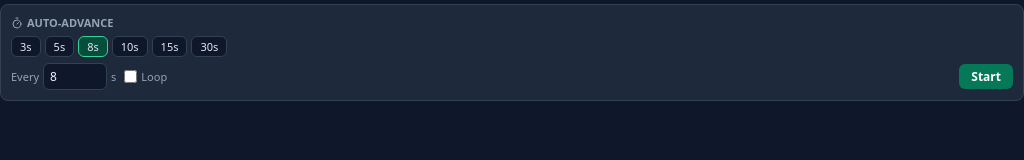
Test: AutoAdvanceControl › shows the reason when starting fails
This screenshot has width=1024, height=160.
Click the button with test id "auto-advance-start": (986, 76) [959, 64, 1013, 89]
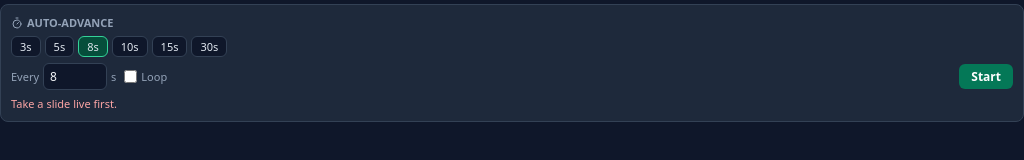
Check: the message with test id "auto-advance-error" shows "live first", box [11, 96, 117, 111]
